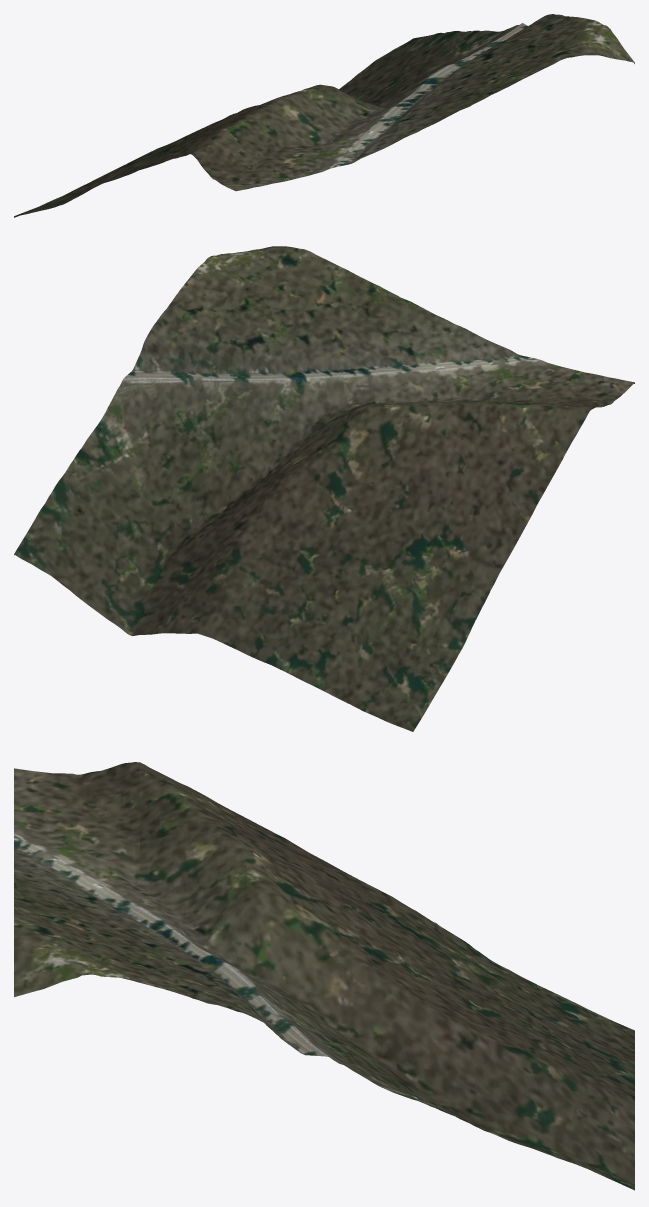
3 renders of one model, top to bottom at view 1: azimuth 30°, elevation 25°; view 2: azimuth 150°, elevation 25°; view 3: azimuth 270°, elevation 25°, orthographic. The views are drawn at different scales.
Size of the model in its own units: 250 by 145 by 241.
1 material, 1 textured.
